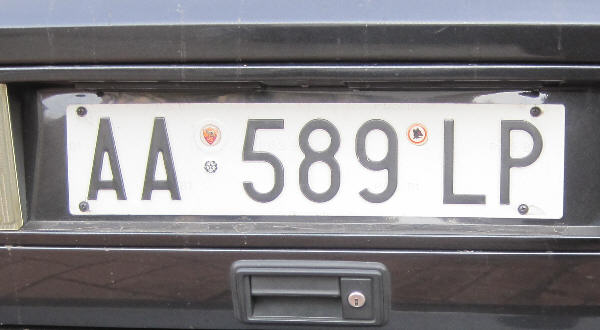license_plate: (65, 102, 565, 222)
